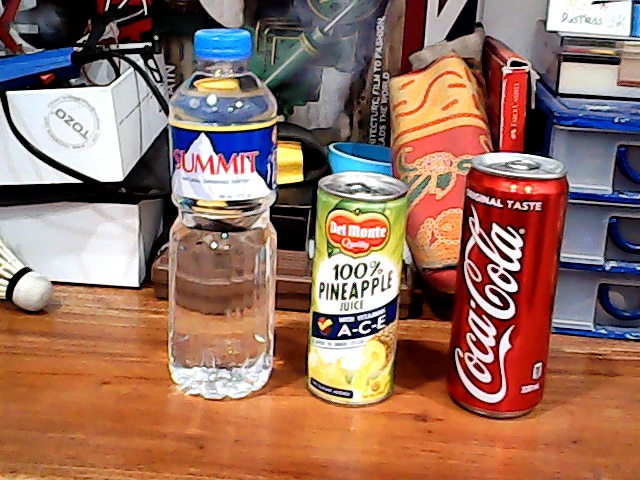Cola: (452, 146, 561, 428)
Pine Juice: (295, 169, 408, 414)
Summit Water: (158, 17, 287, 402)
